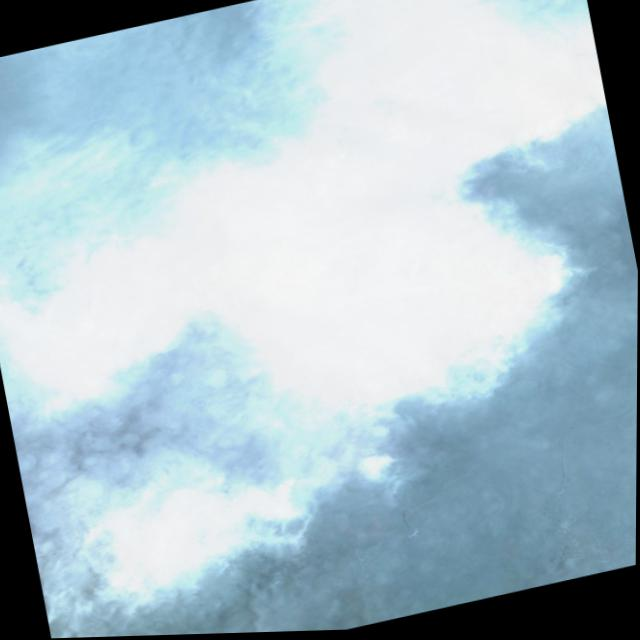fire: (0, 44, 640, 509)
